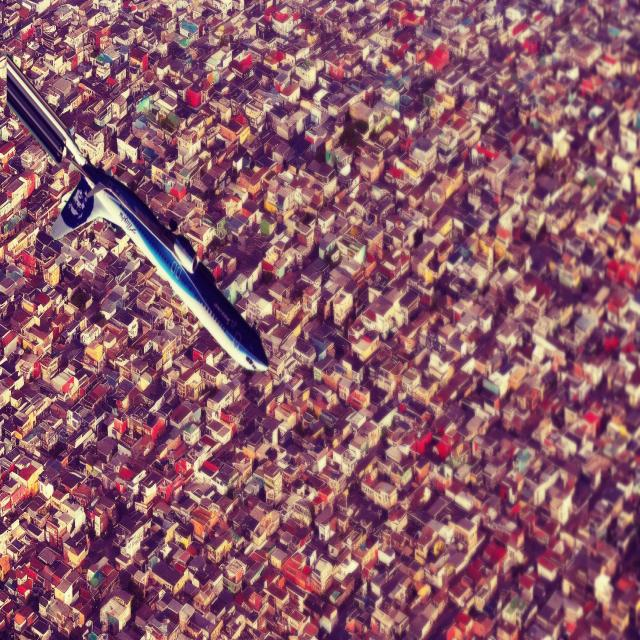airplane: (4, 53, 270, 374)
